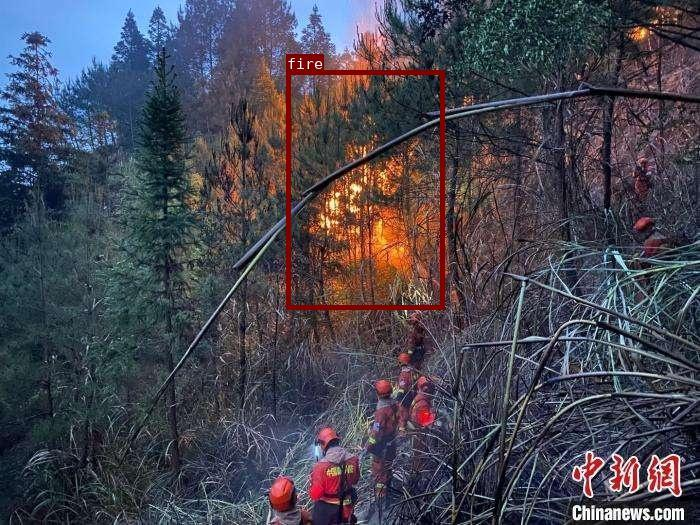fire: (285, 69, 444, 308)
